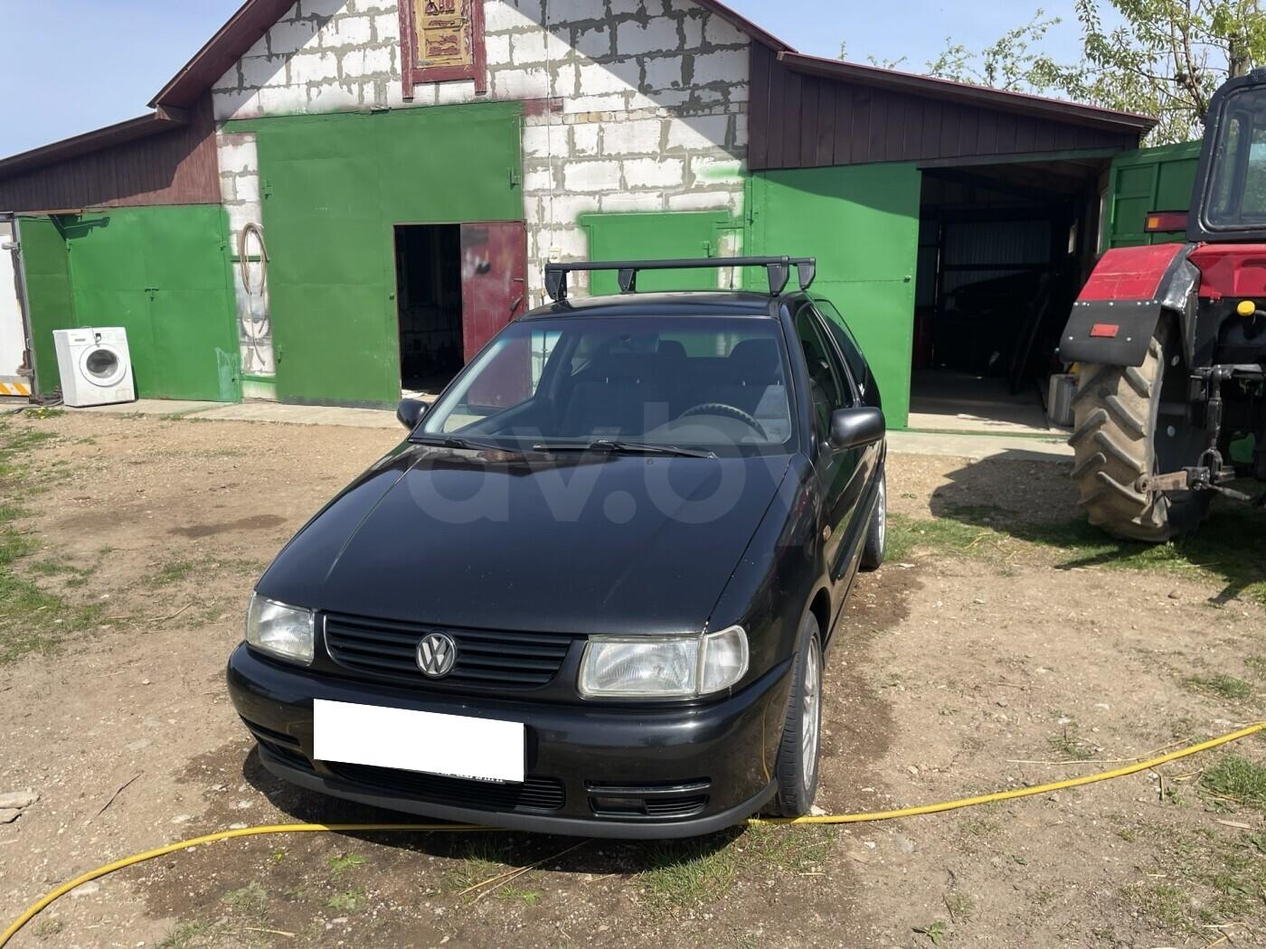Polo_1994-2002: (227, 245, 907, 848)
